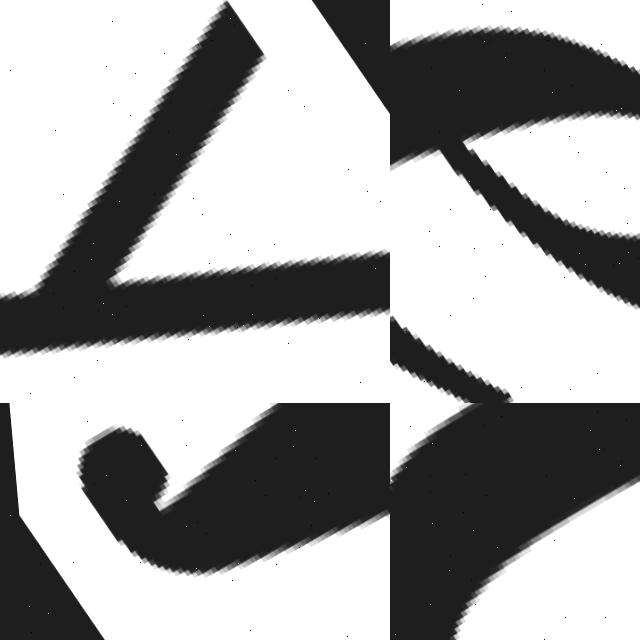E: (390, 20, 640, 305)
O: (390, 403, 640, 640)
Y: (0, 0, 390, 403), (23, 403, 390, 640)
